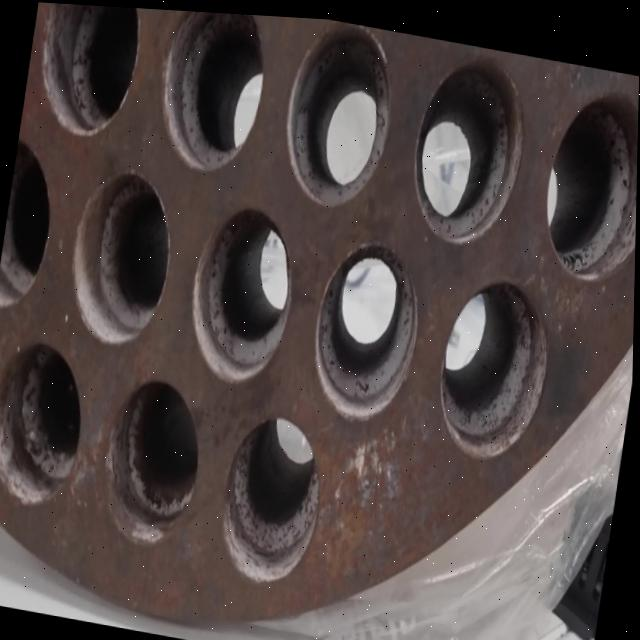Hole: (403, 37, 534, 246), (431, 261, 559, 459), (274, 13, 402, 210), (304, 224, 429, 423), (180, 193, 303, 387), (62, 161, 181, 352), (215, 405, 334, 588), (537, 72, 639, 281), (148, 7, 273, 177), (96, 366, 210, 552), (0, 333, 93, 512), (28, 1, 146, 142), (0, 132, 62, 314)
